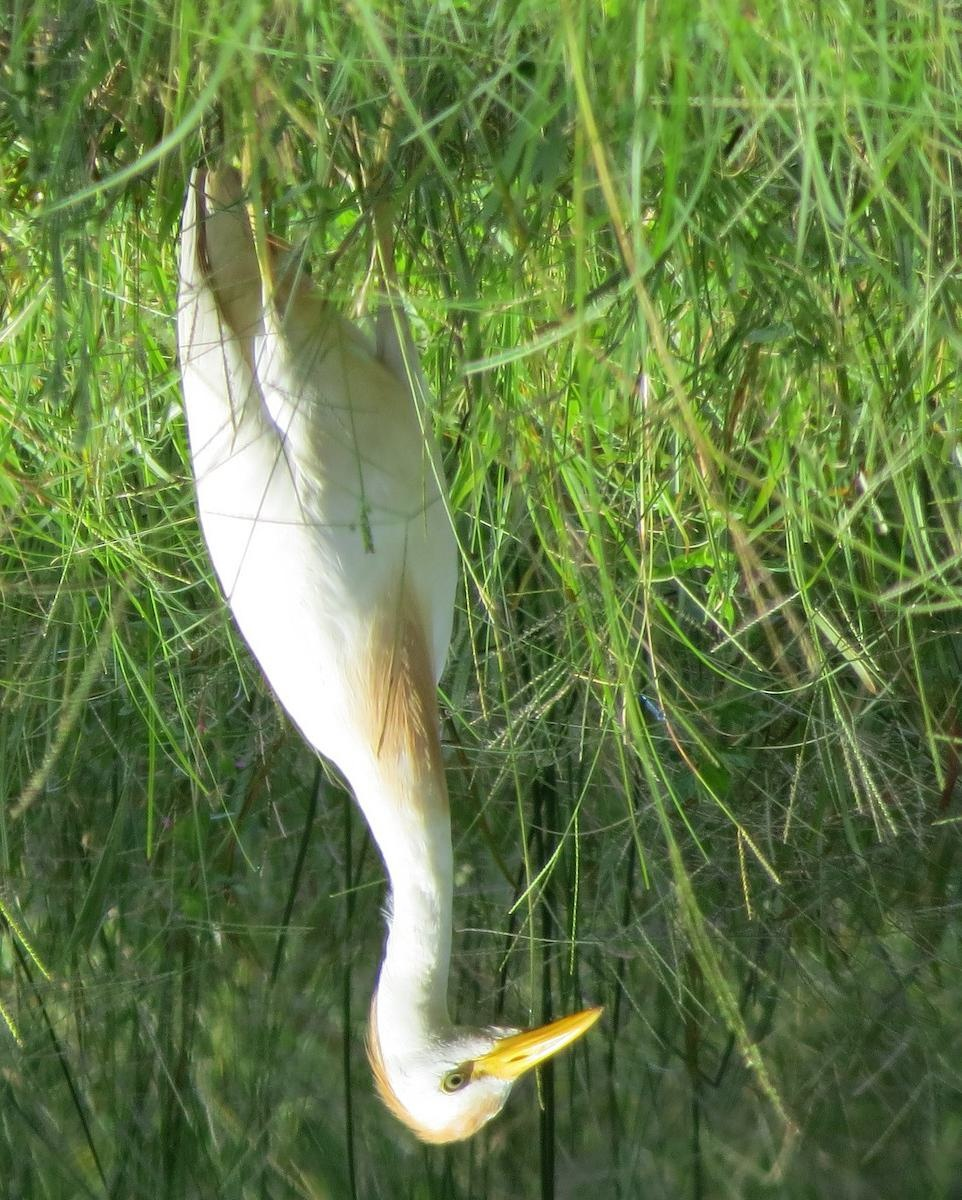egret: (132, 170, 606, 1162)
